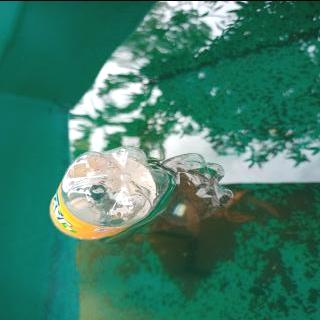bottle: (47, 146, 171, 242)
